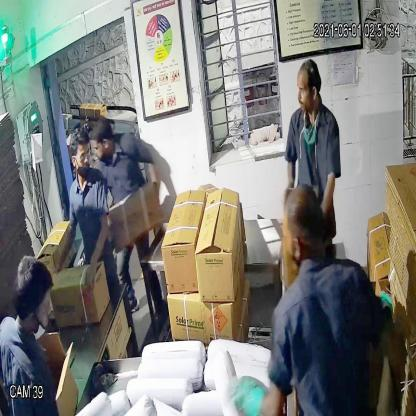goggles: (66, 147, 94, 170)
no_goggles: (296, 78, 321, 104)
